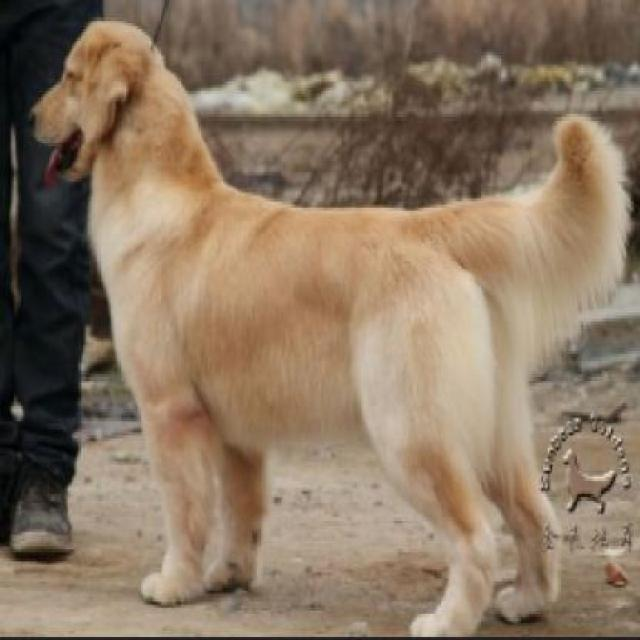Dog: (23, 12, 635, 637)
